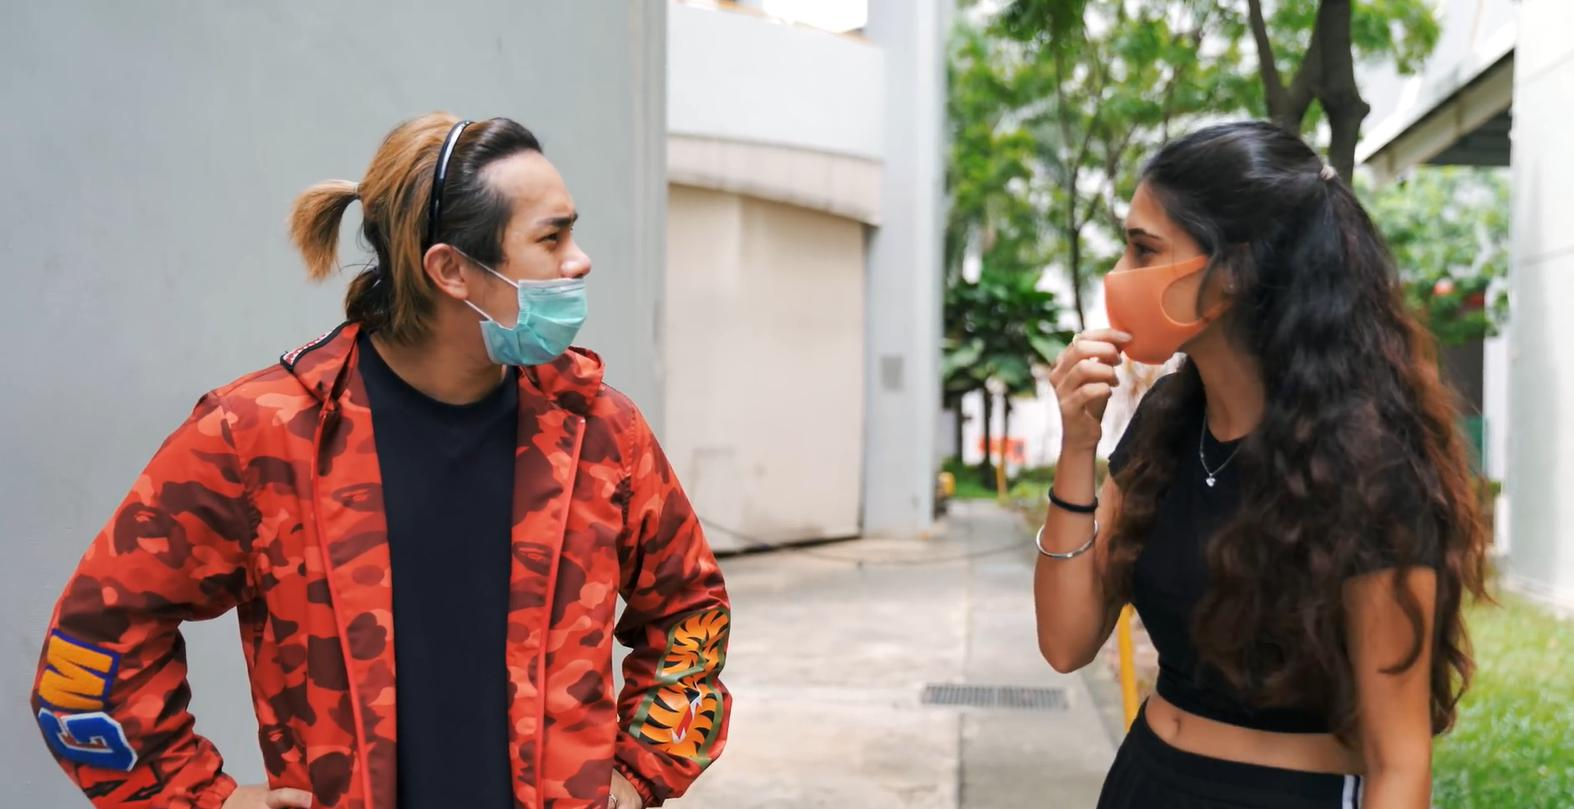with_incorrect_mask: (474, 202, 578, 352)
with_mask: (1122, 220, 1217, 342)
